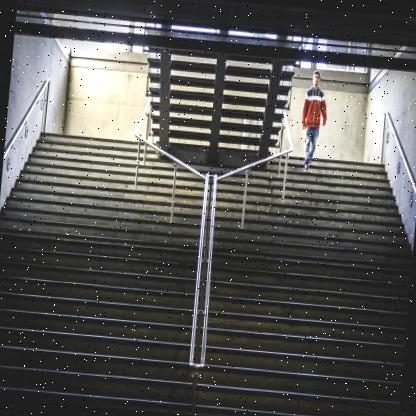person: (295, 67, 332, 174)
stair: (9, 113, 416, 416)
